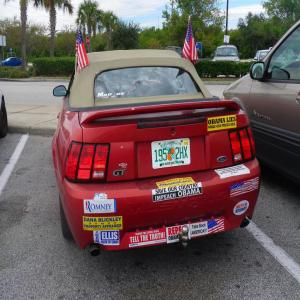Vehicle-registration-plate: (144, 133, 213, 182)
